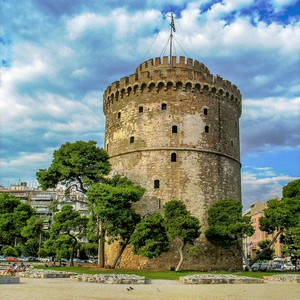White Tower: (100, 8, 245, 276)
